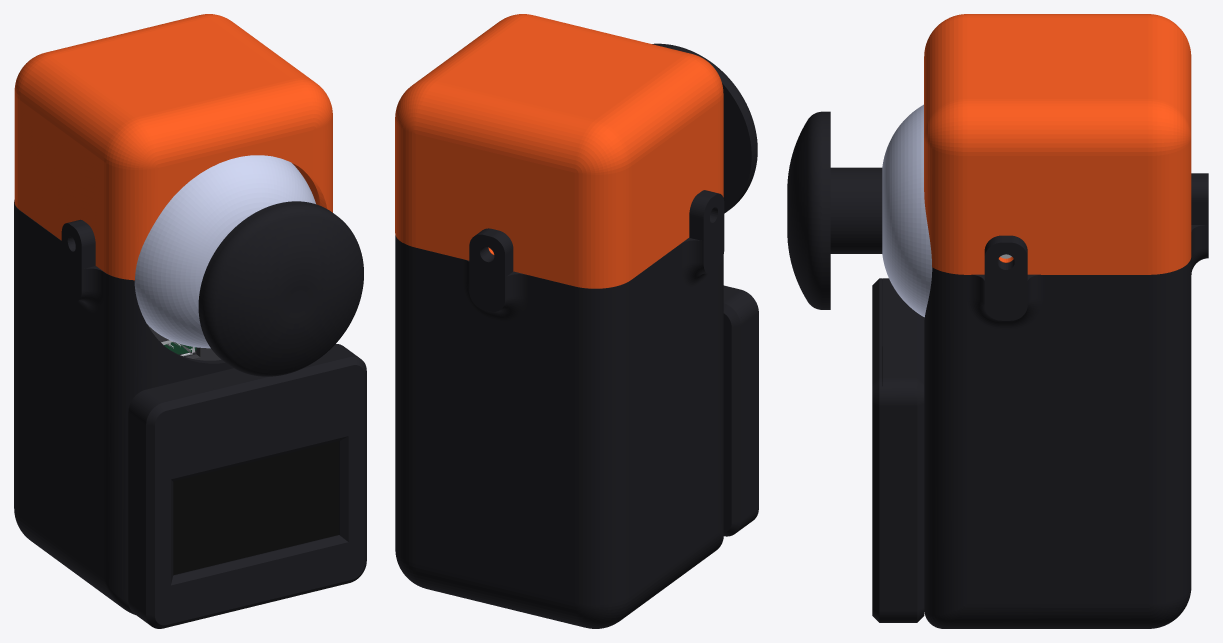
The model's file is connect-explode.glb.
3 views of the same model, side by side, from view 1: azimuth 30°, elevation 25°; view 2: azimuth 150°, elevation 25°; view 3: azimuth 270°, elevation 25° (orthographic). The views are drawn at different scales.
Visible parts, largest first — view 1: case_cap, case_body, oled_case_front, joy_knob, oled_glass, joy_frame, oled_case_back; view 2: case_body, case_cap, oled_case_back, oled_case_front, joy_knob; view 3: case_body, case_cap, joy_knob, oled_case_front, joy_frame, oled_case_back.
Boxes of the visible parts, <box> form: case_cap: <box>14,14,332,280</box>; case_body: <box>14,200,233,614</box>; oled_case_front: <box>130,347,366,628</box>; joy_knob: <box>198,201,363,376</box>; oled_glass: <box>173,441,338,575</box>; joy_frame: <box>134,155,315,348</box>; oled_case_back: <box>128,344,356,612</box>; case_body: <box>395,190,724,628</box>; case_cap: <box>395,14,723,288</box>; oled_case_back: <box>723,287,748,536</box>; oled_case_front: <box>723,285,758,531</box>; joy_knob: <box>652,43,757,213</box>; case_body: <box>924,173,1208,628</box>; case_cap: <box>924,14,1191,274</box>; joy_knob: <box>787,111,882,309</box>; oled_case_front: <box>872,278,913,622</box>; joy_frame: <box>882,104,932,317</box>; oled_case_back: <box>883,278,924,622</box>.
Bounding box in the file's own units: 36.2 × 67.66 × 48.9.
